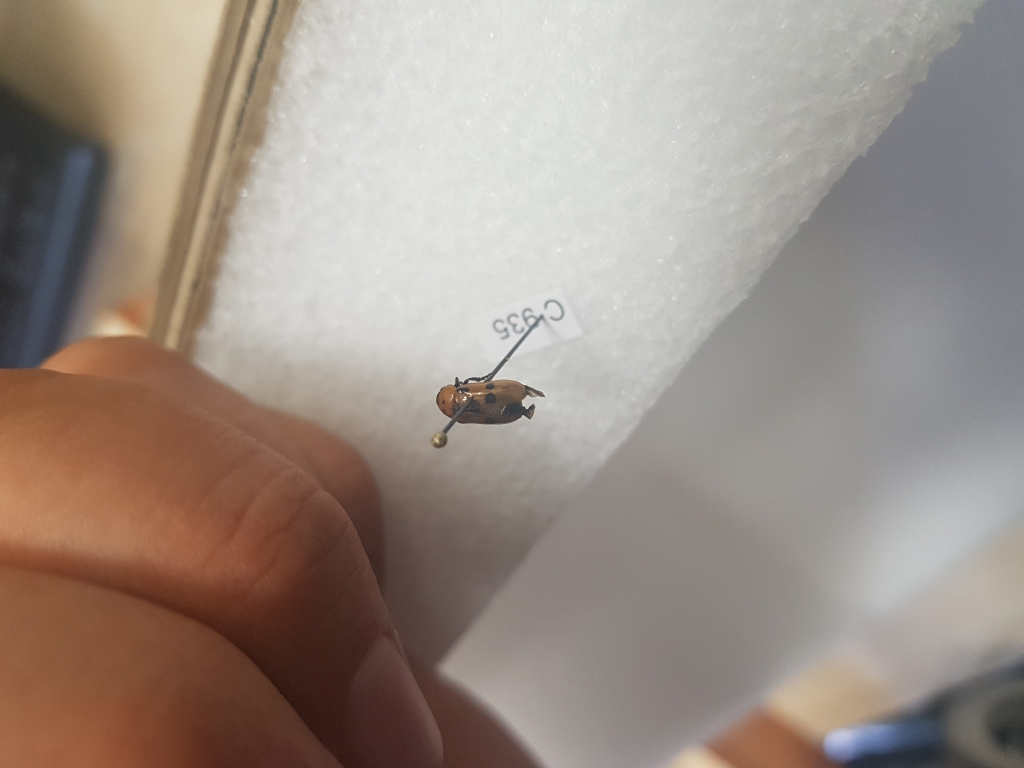Clytra_novempunctata: (435, 372, 554, 428)
